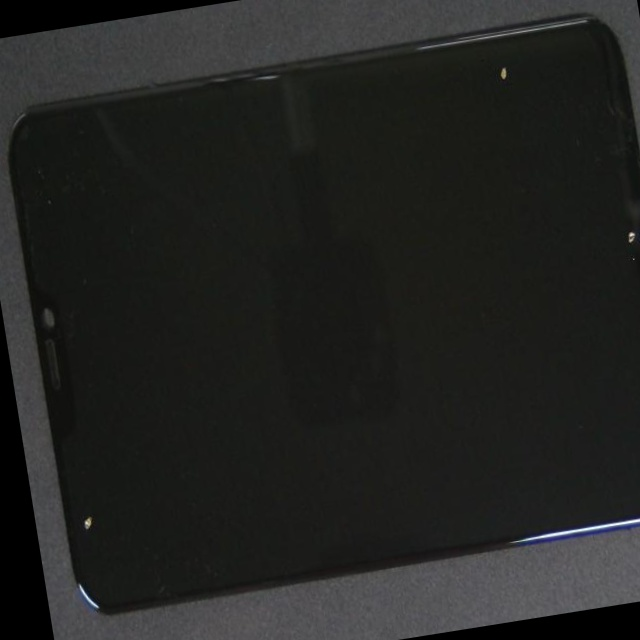stain: (296, 41, 640, 396), (209, 0, 640, 193), (17, 278, 119, 640)
